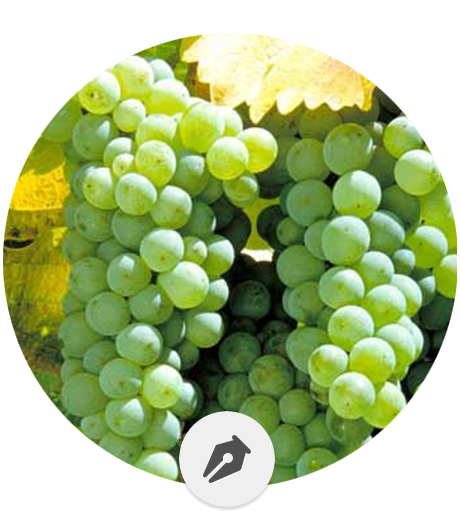Green grapes: (213, 102, 451, 462), (56, 66, 223, 500)
